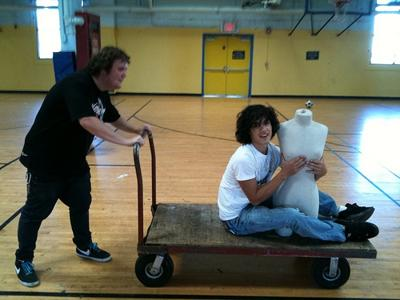person: (12, 46, 148, 288)
